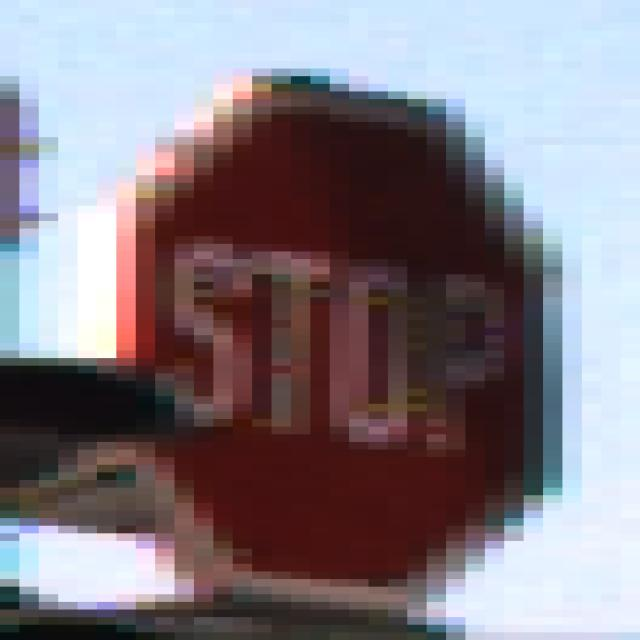STOP: (98, 62, 544, 588)
